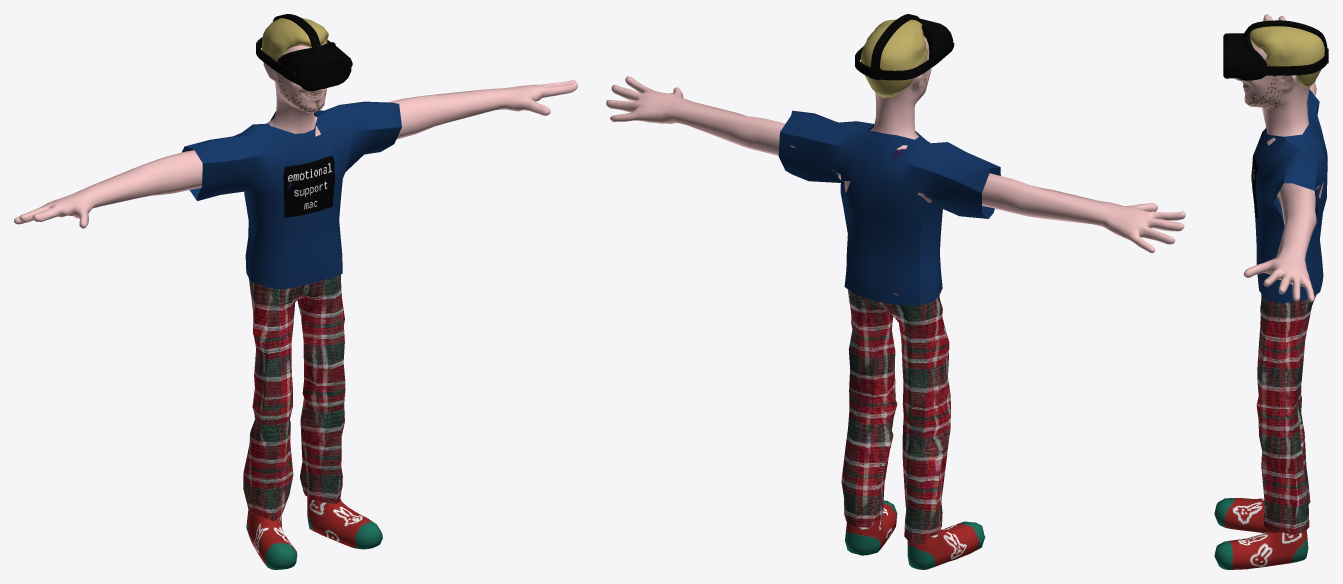
The model's file is mac(1).fbx.
The picture shows the model from 3 angles, left to right: view 1: azimuth 30°, elevation 25°; view 2: azimuth 150°, elevation 25°; view 3: azimuth 270°, elevation 25°; orthographic projection. The views are drawn at different scales.
Parts seen in each view (by area): view 1: shirt_1, trousers, mac_body_retopo, oculusquest2_1, machair_retopo; view 2: shirt_1, trousers, mac_body_retopo, machair_retopo, oculusquest2_1; view 3: mac_body_retopo, trousers, shirt_1, oculusquest2_1, machair_retopo.
Boxes of the visible parts, box(x1,y1,x2,y2) form: shirt_1: box(181, 101, 401, 289); trousers: box(243, 274, 345, 521); mac_body_retopo: box(14, 42, 577, 569); oculusquest2_1: box(256, 14, 352, 91); machair_retopo: box(261, 17, 328, 61); shirt_1: box(778, 110, 1000, 305); trousers: box(841, 289, 950, 543); mac_body_retopo: box(606, 36, 1185, 569); machair_retopo: box(861, 19, 927, 97); oculusquest2_1: box(855, 14, 954, 80); mac_body_retopo: box(1214, 14, 1323, 569); trousers: box(1256, 294, 1316, 534); shirt_1: box(1251, 89, 1327, 303); oculusquest2_1: box(1223, 20, 1328, 80); machair_retopo: box(1249, 26, 1324, 87).
Bounding box in the file's own units: 869 × 774 × 153.
Materials: 5 (3 with a texture image).
